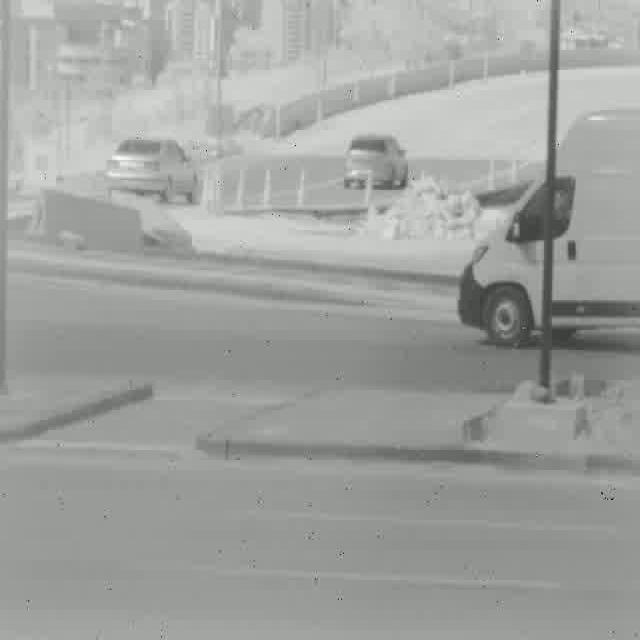Car: (455, 108, 640, 341), (106, 136, 201, 202), (342, 133, 408, 187)
